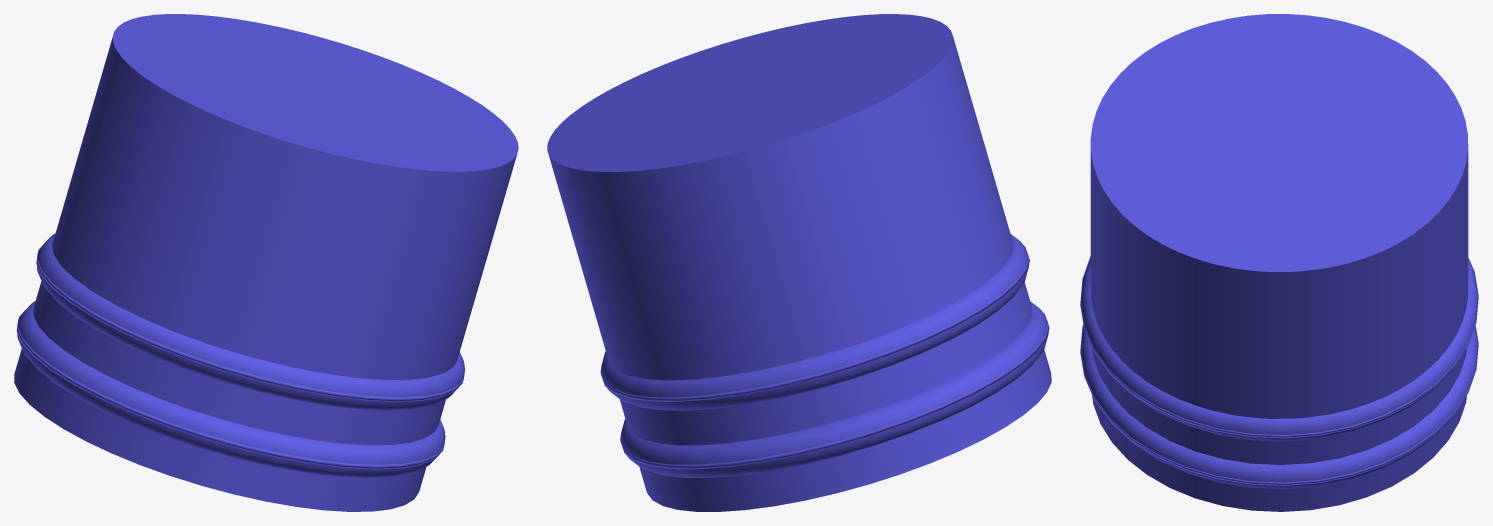
Rendered from bombilla91.obj.
The picture shows the model from 3 angles, left to right: view 1: azimuth 30°, elevation 25°; view 2: azimuth 150°, elevation 25°; view 3: azimuth 270°, elevation 25°; orthographic projection. The views are drawn at different scales.
Visible parts, largest first — view 1: Cylinder001, Cylinder003, Cylinder004, Cylinder006, Cylinder002; view 2: Cylinder001, Cylinder003, Cylinder004, Cylinder006, Cylinder002; view 3: Cylinder001, Cylinder004, Cylinder002, Cylinder003, Cylinder006.
Boxes of the visible parts, bbox=[...] form: Cylinder001: bbox=[52, 14, 518, 380]; Cylinder003: bbox=[33, 281, 445, 445]; Cylinder004: bbox=[16, 301, 445, 477]; Cylinder006: bbox=[14, 348, 426, 511]; Cylinder002: bbox=[36, 233, 465, 410]; Cylinder001: bbox=[547, 14, 1013, 380]; Cylinder003: bbox=[620, 282, 1032, 445]; Cylinder004: bbox=[620, 301, 1049, 477]; Cylinder006: bbox=[639, 349, 1051, 511]; Cylinder002: bbox=[600, 234, 1029, 410]; Cylinder001: bbox=[1090, 14, 1468, 418]; Cylinder004: bbox=[1080, 324, 1478, 488]; Cylinder002: bbox=[1080, 256, 1478, 441]; Cylinder003: bbox=[1092, 348, 1466, 464]; Cylinder006: bbox=[1092, 395, 1466, 511].
Size of the model in its own units: 83.58 by 77.92 by 72.21.
